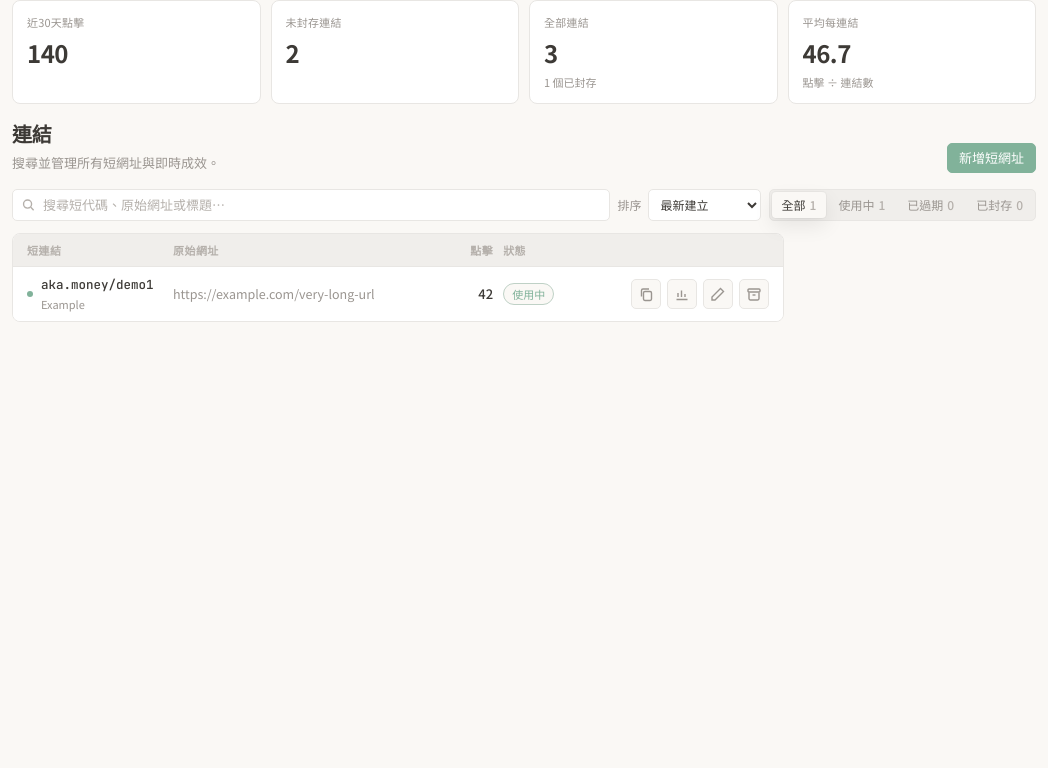
Test: DashboardView › shows a visible error toast when the clipboard API is unavailable
Click the button with test id "row-copy".
click(646, 294)  # box [631,279,661,309]
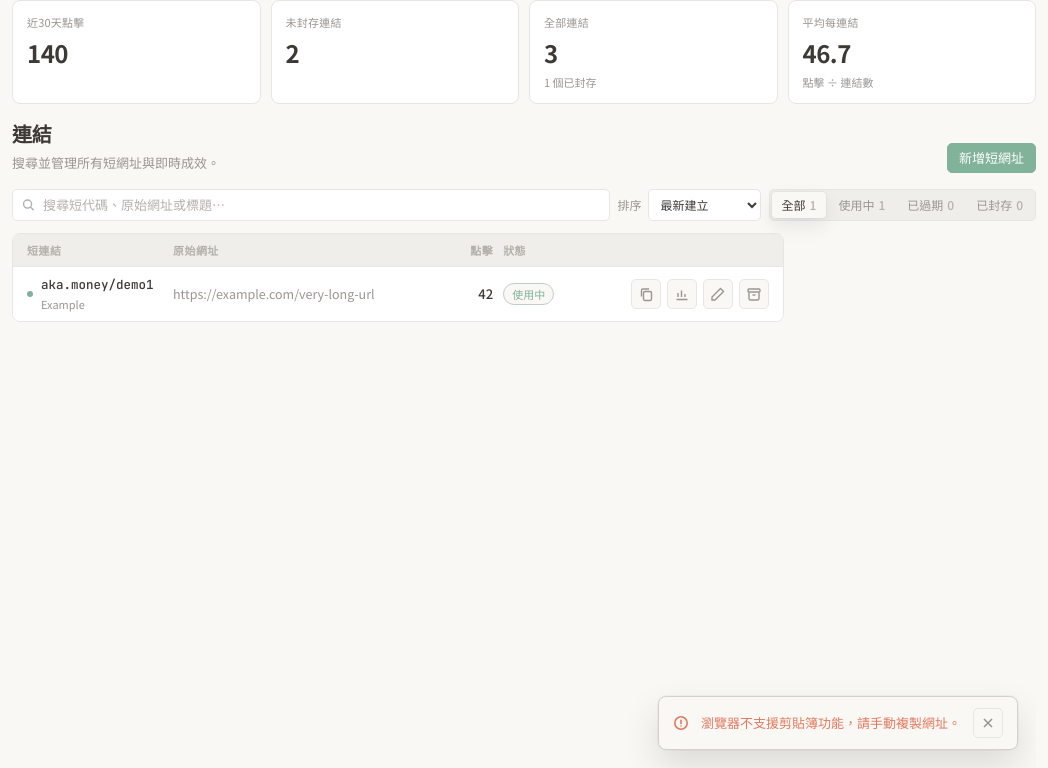
Check: the message "瀏覽器不支援剪貼簿功能，請手動複製網址。" is shown, box [658,696,1018,750]
